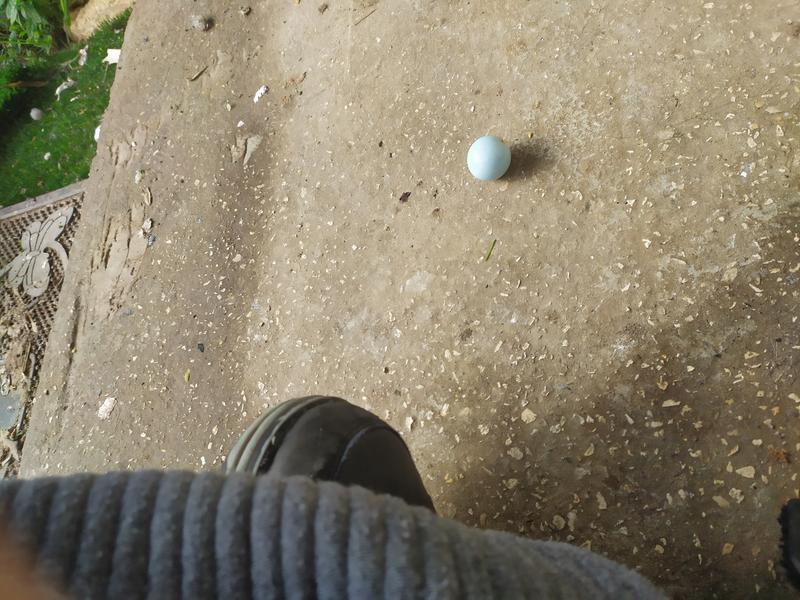Warning: (464, 132, 515, 183)
